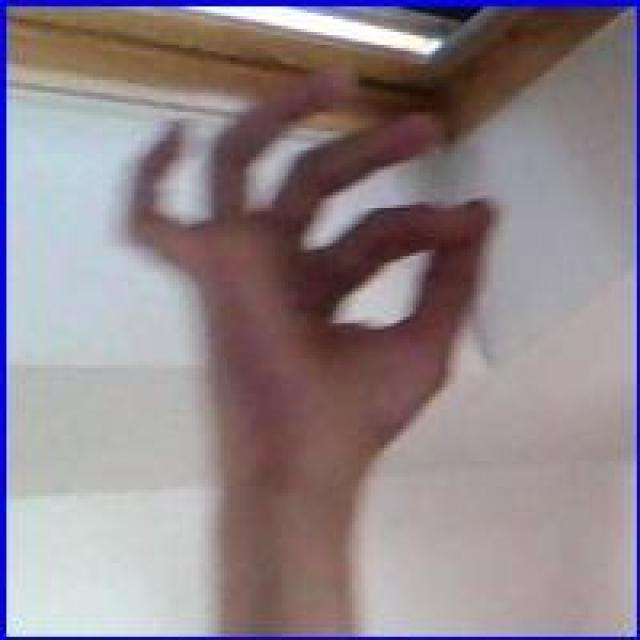F: (120, 54, 507, 473)
